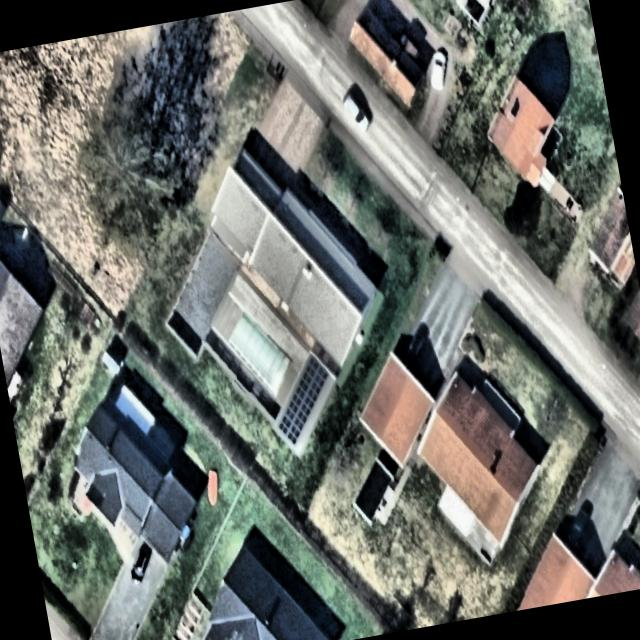roof_pv: (292, 349, 338, 422), (272, 382, 308, 450)
